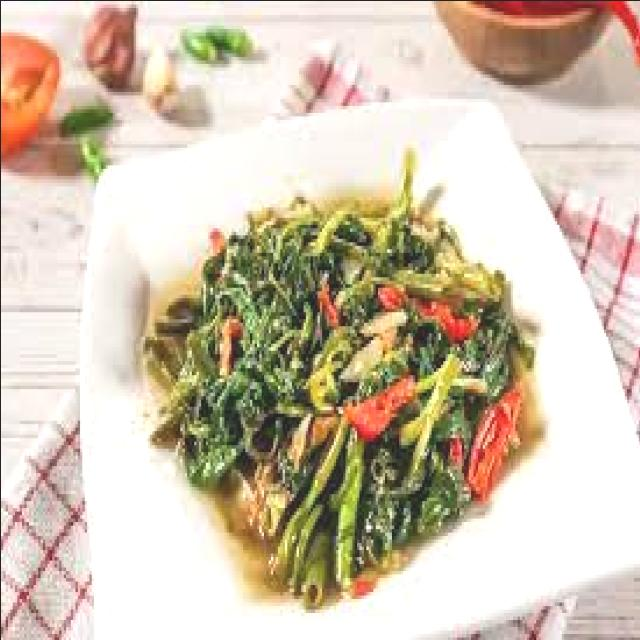tumis kangkung: (134, 188, 558, 554)
